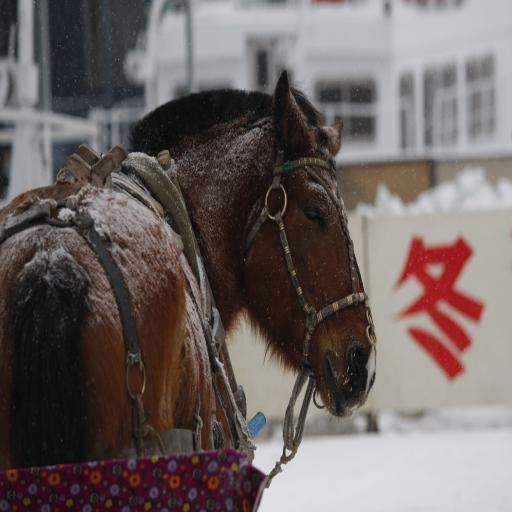horse: (0, 65, 380, 469)
